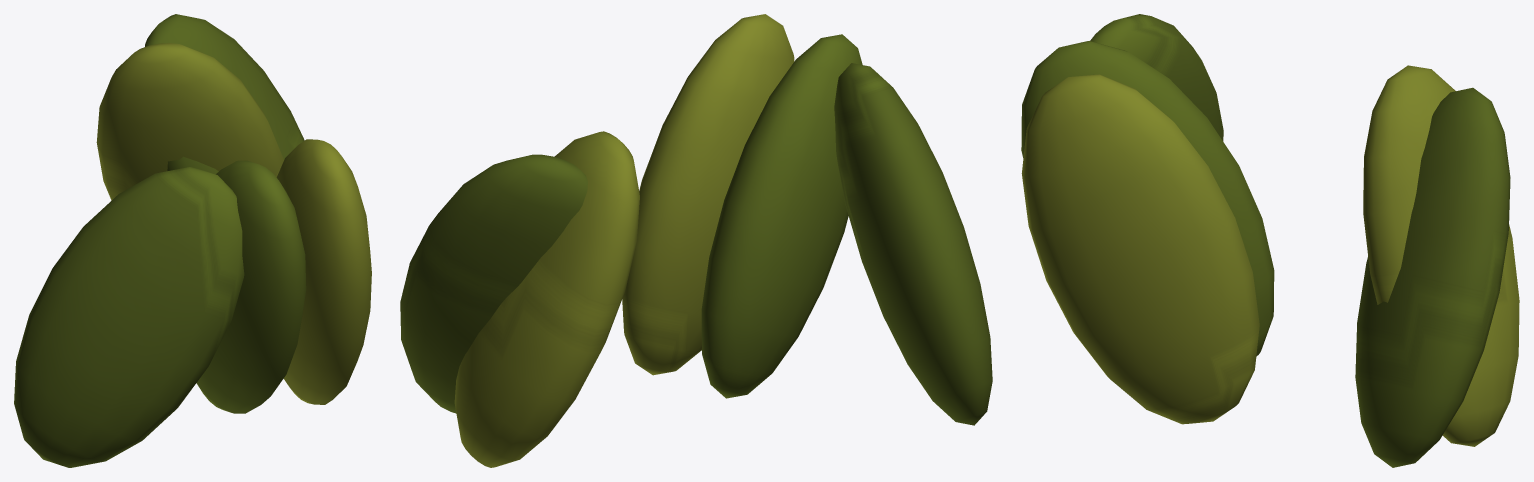
File: Foliage_1.fbx
3 views of the same model, side by side, from view 1: azimuth 30°, elevation 25°; view 2: azimuth 150°, elevation 25°; view 3: azimuth 270°, elevation 25° (orthographic). The views are drawn at different scales.
Parts seen in each view (by area): view 1: Foliage_1; view 2: Foliage_1; view 3: Foliage_1.
Part boxes in pixels (bbox=[...]): Foliage_1: bbox=[14, 14, 371, 467]; Foliage_1: bbox=[400, 14, 992, 467]; Foliage_1: bbox=[1021, 14, 1519, 467].
Size of the model in its own units: 47.02 by 31.88 by 43.55.
Materials: 1 (1 with a texture image).
